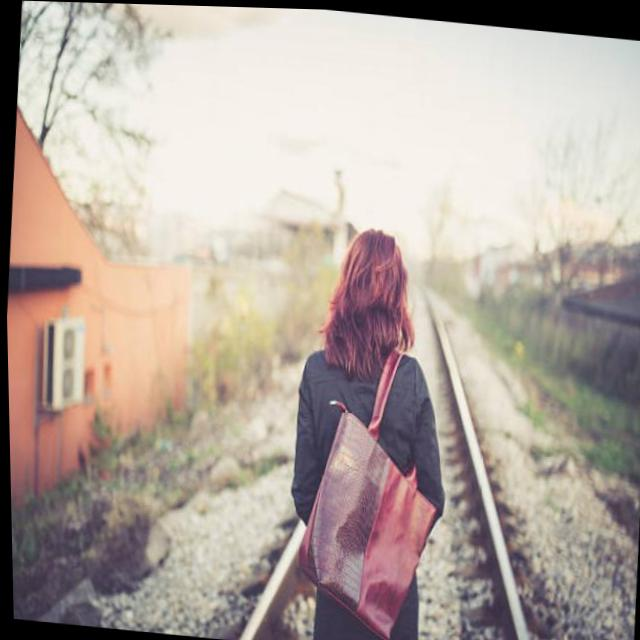no helmet: (326, 213, 428, 369)
